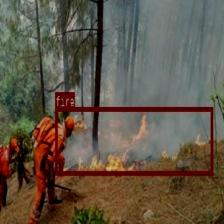fire: (55, 107, 213, 174)
